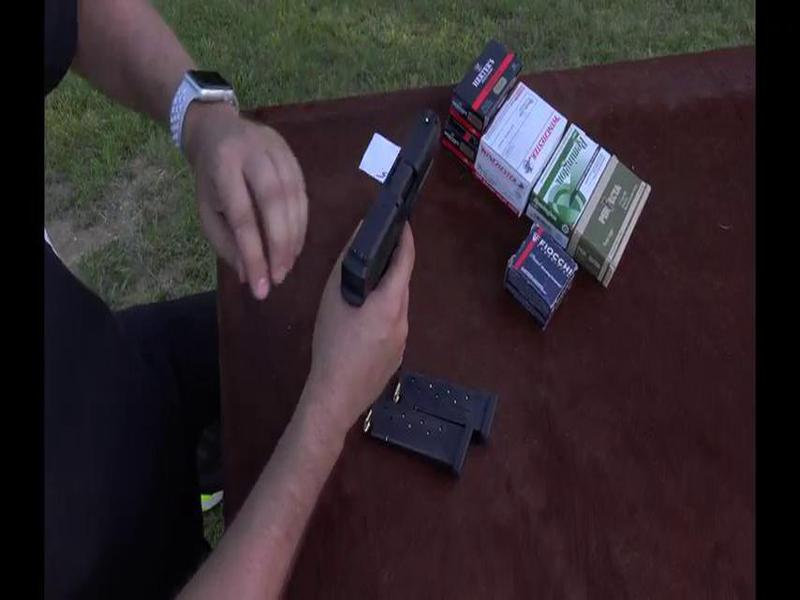Pistola: (338, 103, 454, 301)
